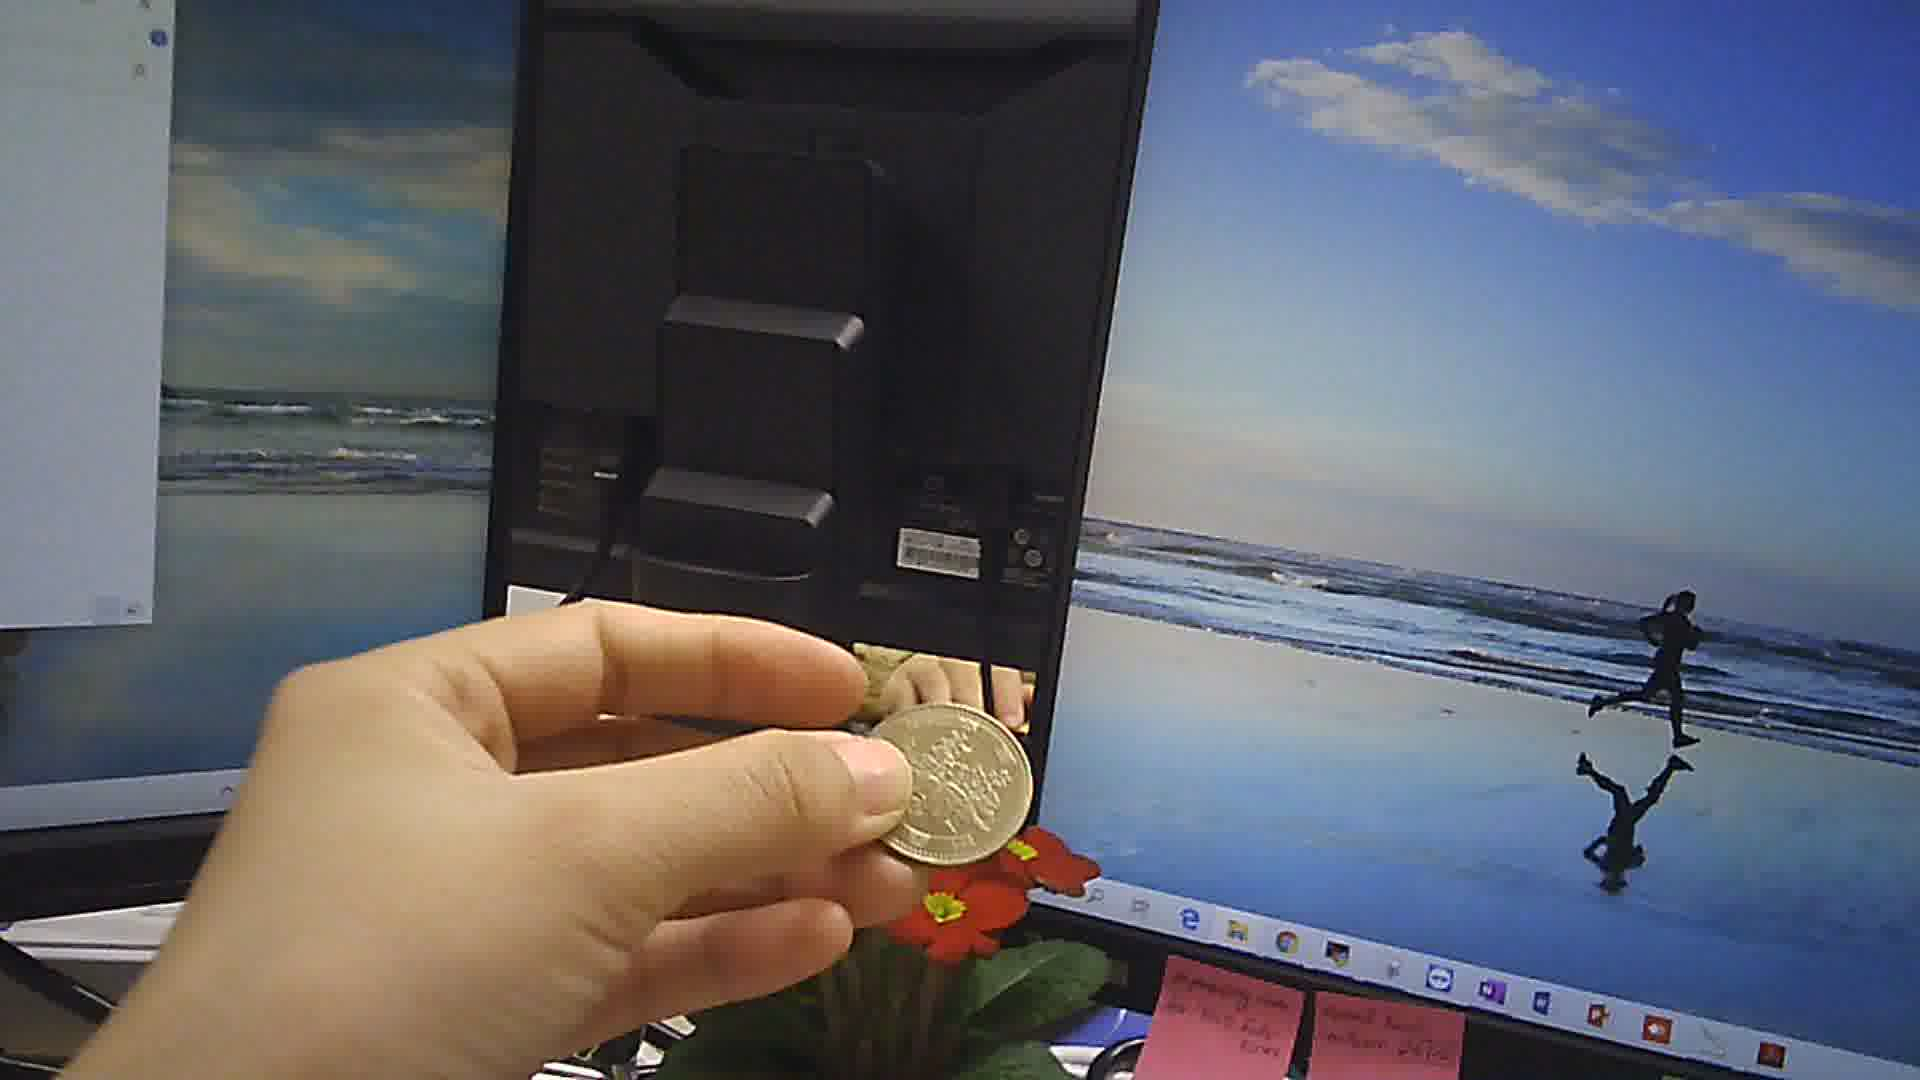500 Yen: (857, 696, 1035, 864)
